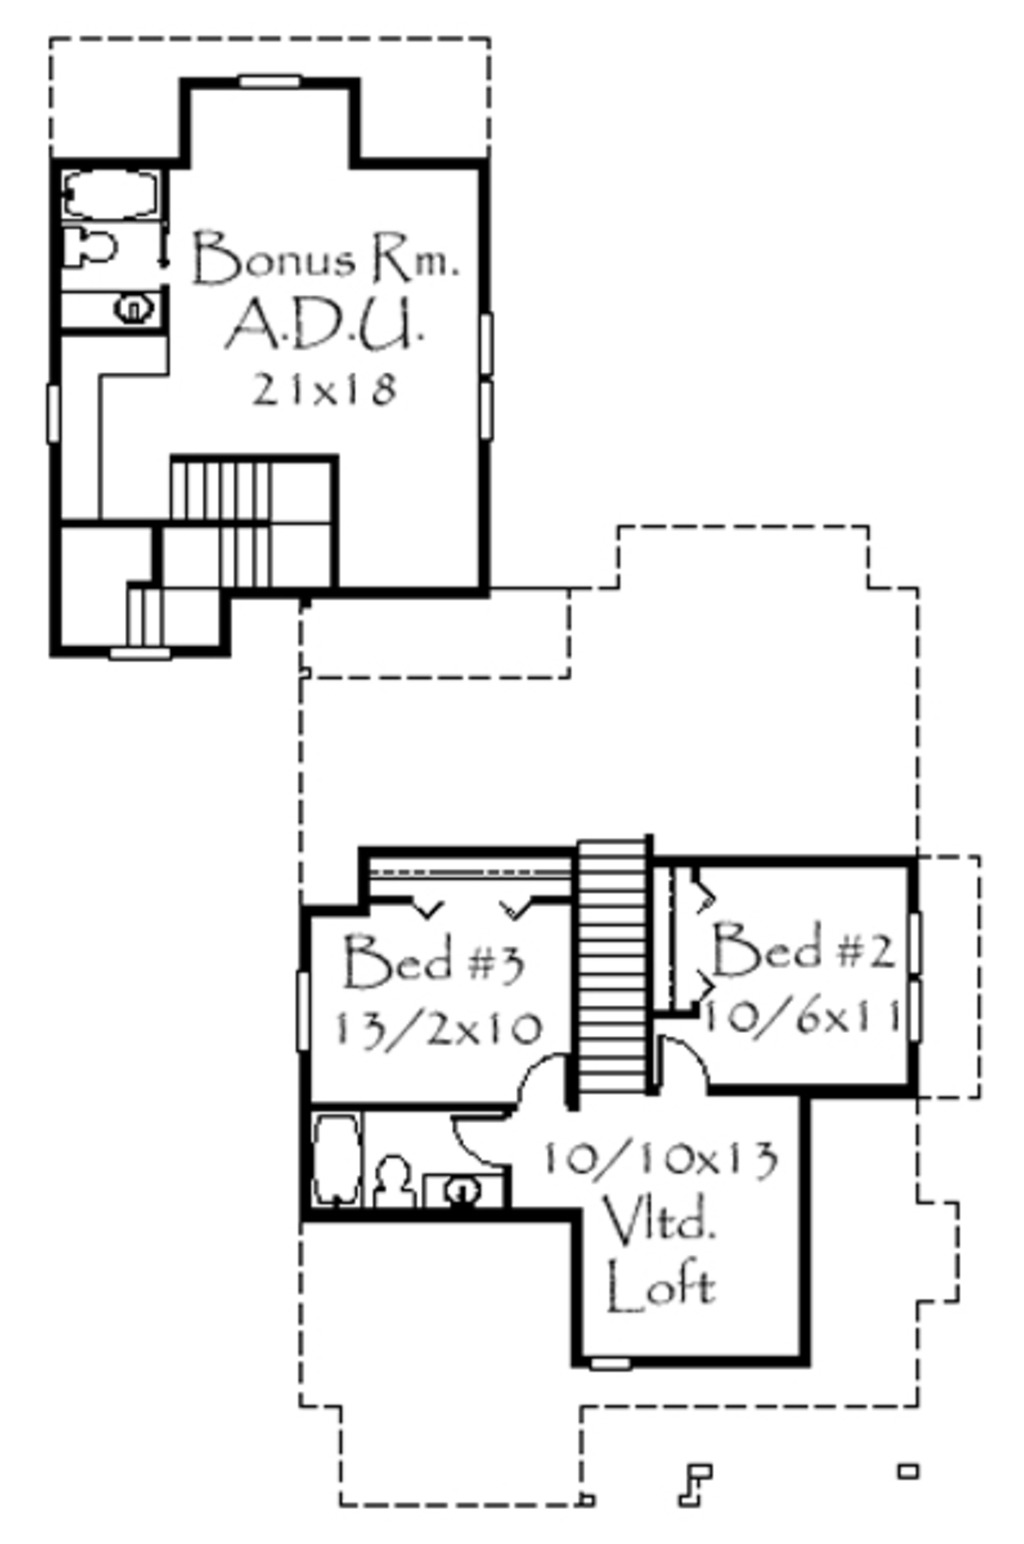door: (645, 1027, 754, 1101), (505, 1049, 587, 1118), (429, 1113, 522, 1163)
large_sink: (51, 225, 117, 277), (359, 1147, 413, 1208)
small_sink: (427, 1154, 507, 1218), (78, 291, 171, 335)
stairs: (88, 440, 363, 657), (566, 825, 659, 1110)
tub: (298, 1105, 363, 1210), (56, 161, 161, 218)
window: (464, 296, 505, 442), (895, 901, 933, 1051), (219, 57, 317, 107)
